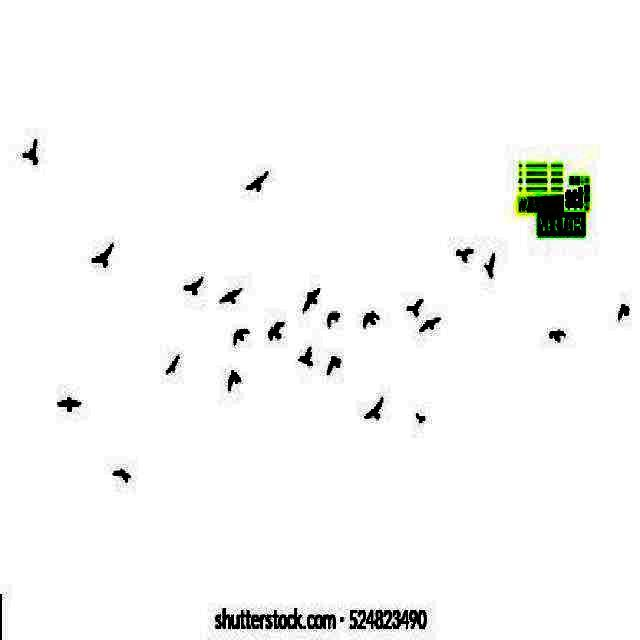bird: (358, 290, 384, 341), (409, 310, 452, 338), (263, 306, 288, 354), (296, 284, 327, 318), (14, 140, 43, 172), (81, 244, 120, 266), (322, 294, 342, 335), (52, 392, 80, 420), (323, 344, 346, 378), (362, 394, 388, 424), (226, 316, 253, 344), (401, 290, 423, 324), (220, 368, 251, 392), (177, 276, 205, 302), (244, 170, 272, 196), (294, 344, 320, 372), (479, 252, 502, 282), (611, 302, 640, 325), (108, 459, 132, 484), (218, 284, 240, 311), (451, 243, 476, 266), (160, 352, 182, 378), (409, 407, 427, 432), (545, 326, 569, 344)
